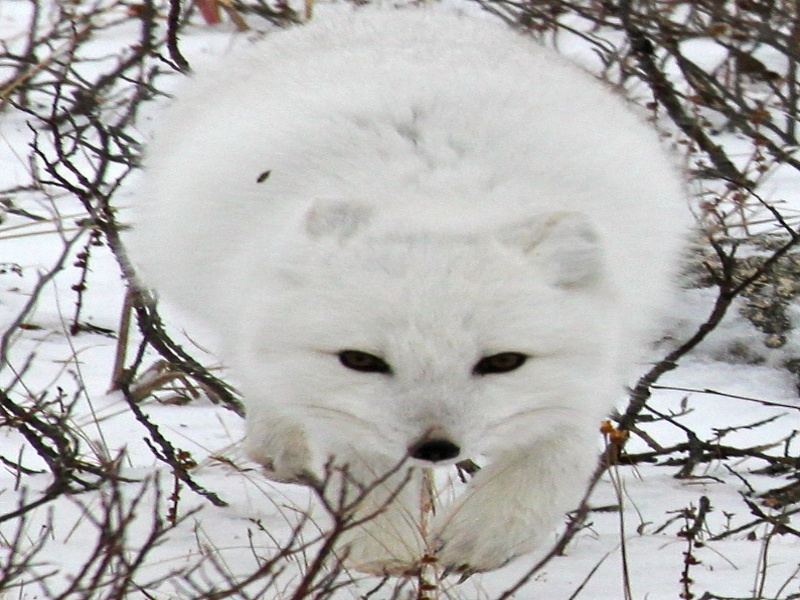fox: (144, 8, 686, 576)
